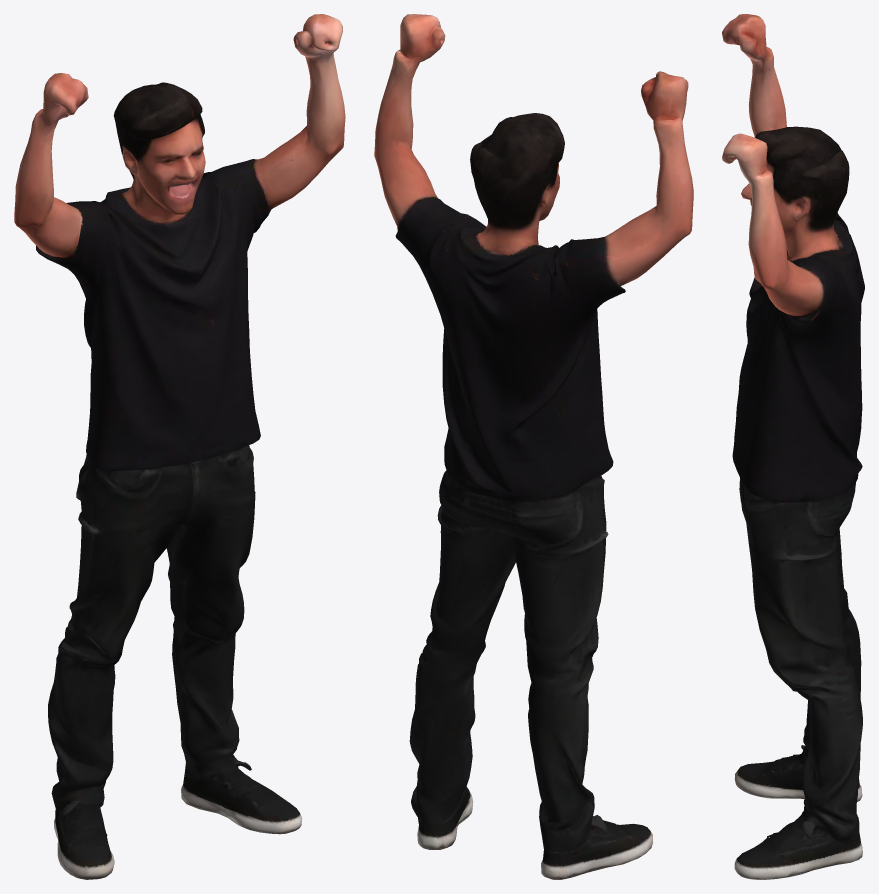
Rendered from fan-m-fists-s1.glb.
3 renders of one model, left to right at view 1: azimuth 30°, elevation 25°; view 2: azimuth 150°, elevation 25°; view 3: azimuth 270°, elevation 25°, orthographic. The views are drawn at different scales.
Parts seen in each view (by area): view 1: geometry_0; view 2: geometry_0; view 3: geometry_0.
Boxes of the visible parts, box(x1,y1,x2,y2) form: geometry_0: box(14, 14, 345, 879); geometry_0: box(374, 14, 693, 879); geometry_0: box(722, 14, 864, 879).
Size of the model in its own units: 0.4235 by 1 by 0.1714.
1 material, 1 textured.
